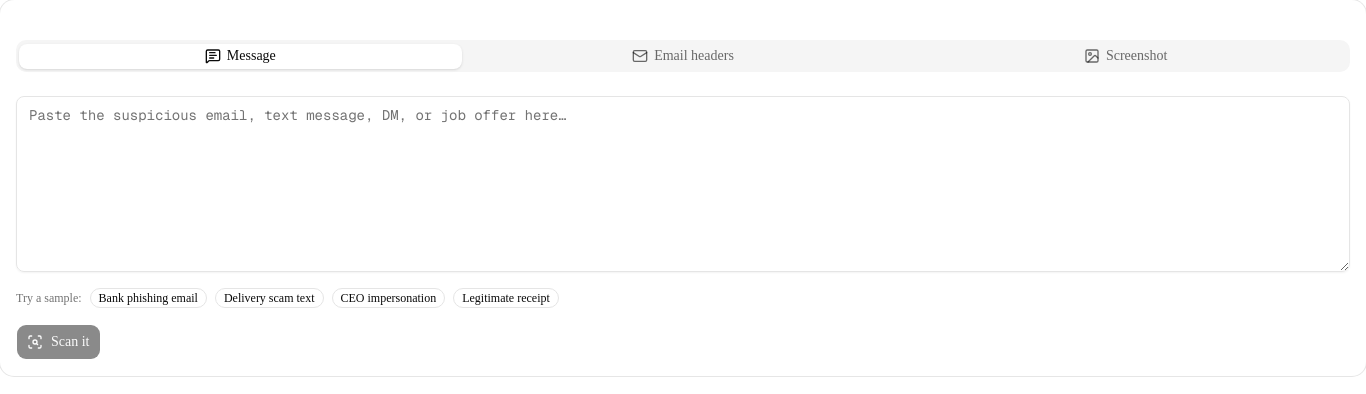
Test: Scanner input modes › disables Scan until there is input, enables once text is entered
Expected: the button "Scan it" is disabled, x1=16 y1=324 x2=100 y2=360
Type "hello" into the text box with placeholder "Paste the suspicious email" at coordinates (683, 184), box x1=16 y1=96 x2=1350 y2=272
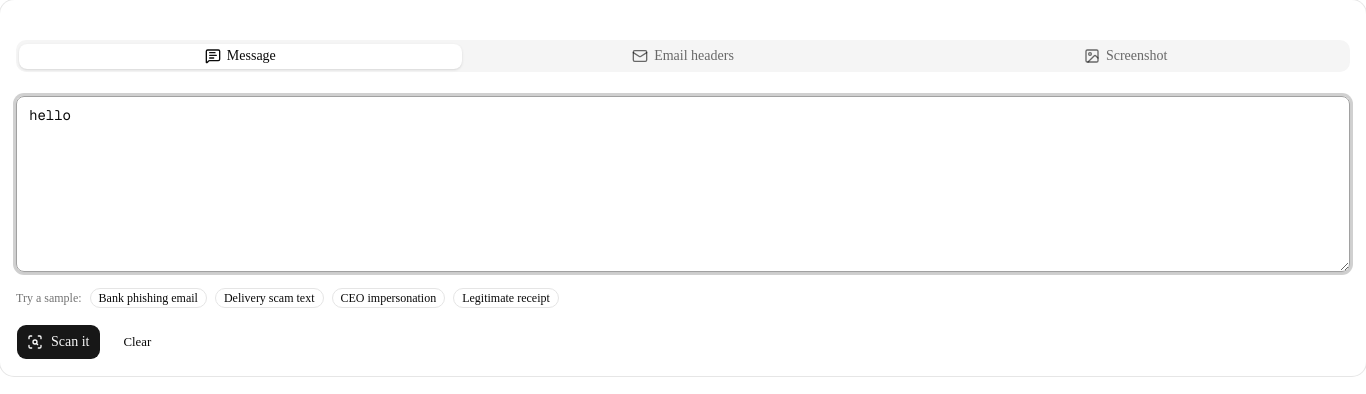
Now the button "Scan it" is enabled, box x1=16 y1=324 x2=100 y2=360
